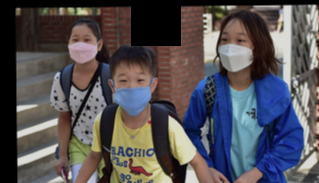with_mask: (112, 69, 153, 116), (218, 28, 254, 74), (67, 32, 98, 64)
